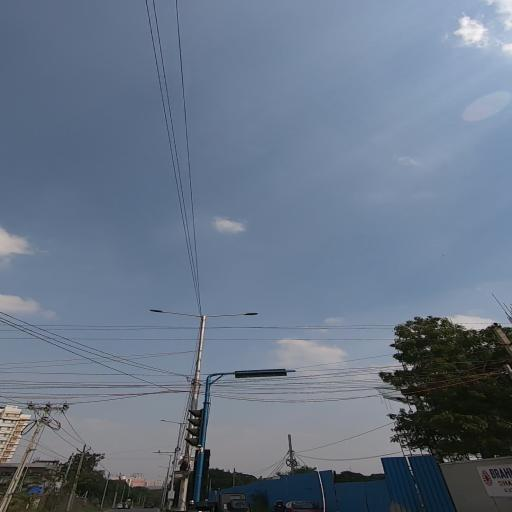Street_light: (201, 308, 265, 322), (146, 307, 199, 322)
